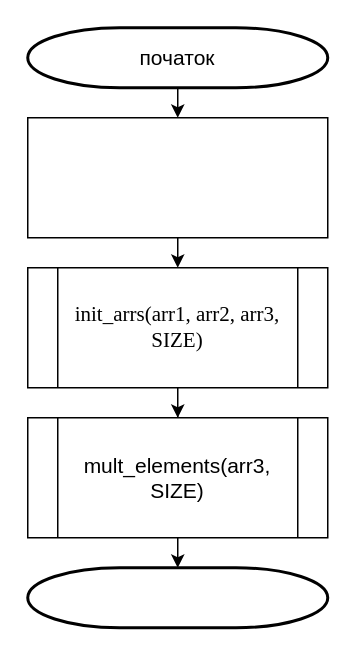
Image size: 354x654. Some labels were removed from this diagram. The shapes that lost their labels are listed below. From the top down, each one's box as (x1, y1, x2, y2) in pixels, then its label:
(26, 116, 328, 238): SIZE := 10
(26, 566, 328, 628): кінець
